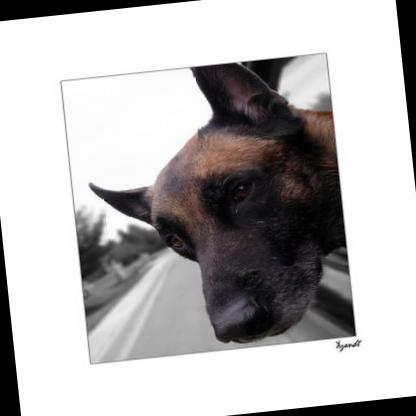malinois: (68, 50, 354, 359)
